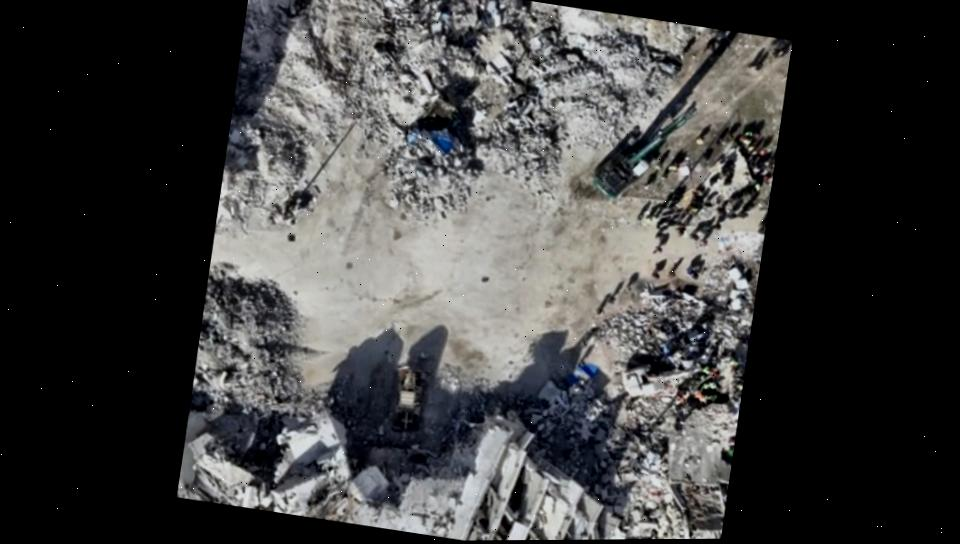kapali: (499, 187, 768, 436)
